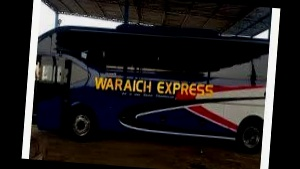bus: (31, 14, 270, 153)
